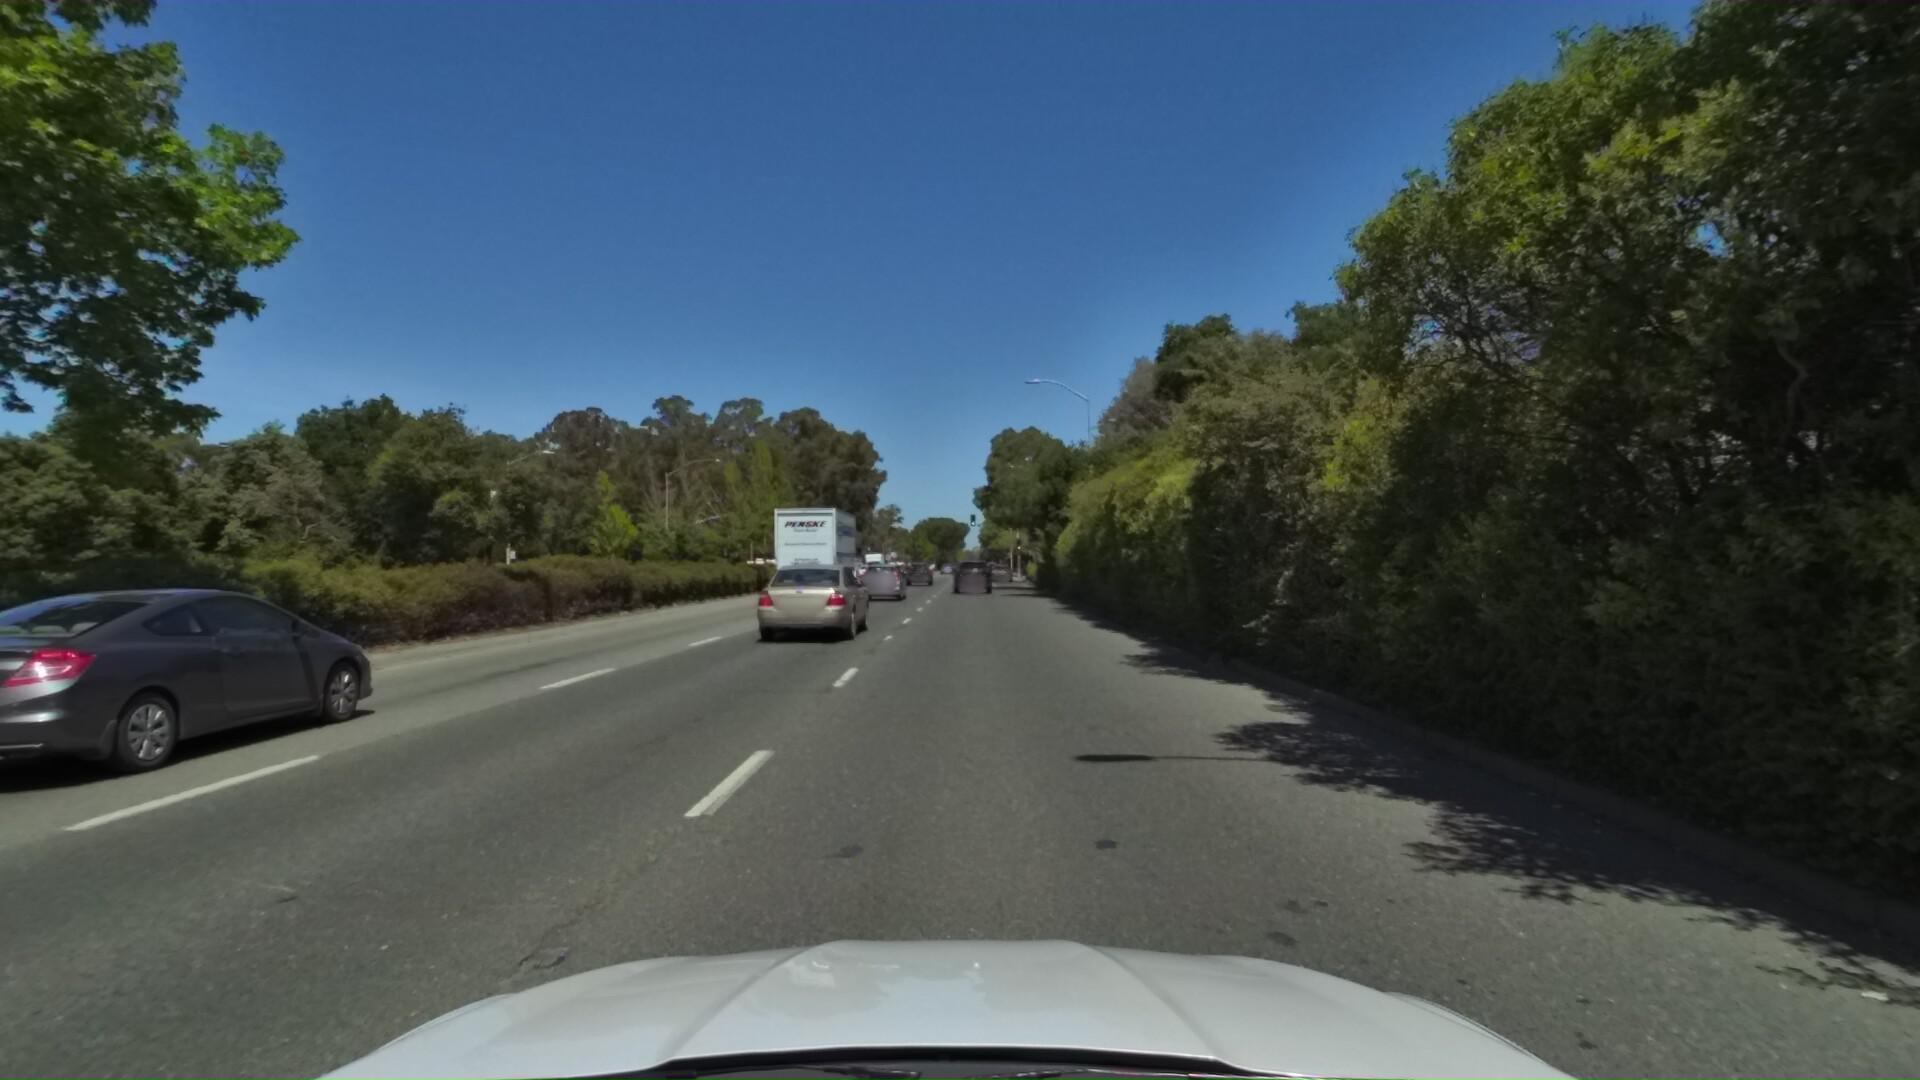car: (746, 562, 874, 653), (856, 563, 909, 604), (944, 555, 992, 596), (899, 558, 934, 587), (986, 556, 1015, 579)
truck: (770, 500, 868, 600)
